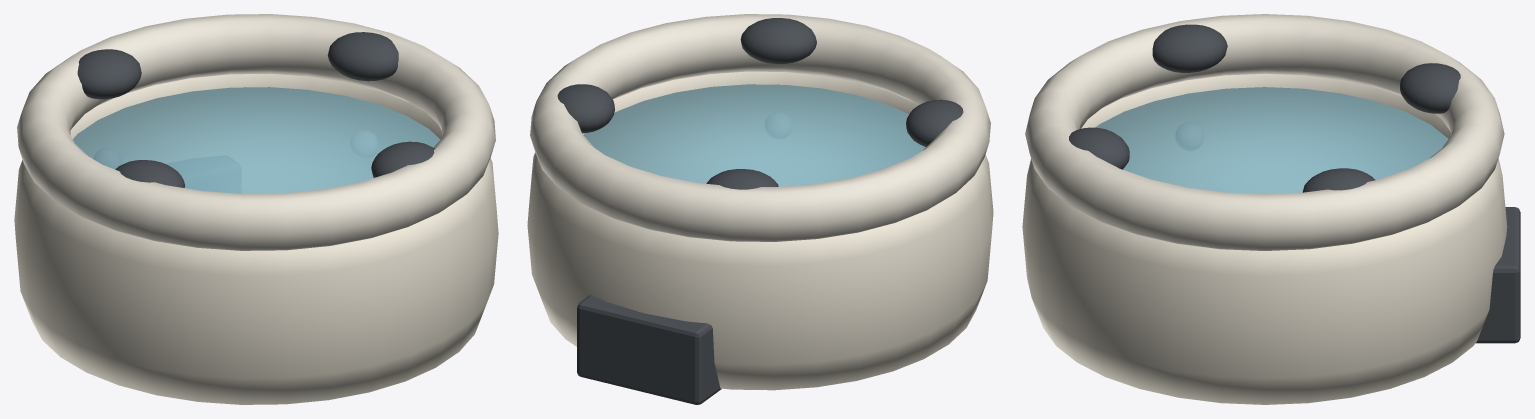
Rendered from hot_tub_round.glb.
3 views of the same model, side by side, from view 1: azimuth 30°, elevation 25°; view 2: azimuth 150°, elevation 25°; view 3: azimuth 270°, elevation 25° (orthographic). The views are drawn at different scales.
Visible parts, largest first — view 1: Tub wall, Tint, Water, Headrest.002, Headrest.001, Headrest.003, Headrest; view 2: Tub wall, Tint, Water, Step, Headrest.003, Headrest.002, Headrest, Headrest.001; view 3: Tub wall, Tint, Water, Step, Headrest, Headrest.001, Headrest.003, Headrest.002.
Boxes of the visible parts, x1,y1,x2,y2 form: Tub wall: (14,73,498,404); Tint: (17,14,495,250); Water: (73,87,440,193); Headrest.002: (327,32,398,81); Headrest.001: (77,49,141,99); Headrest.003: (371,141,434,177); Headrest: (115,160,184,187); Tub wall: (527,71,993,390); Tint: (530,14,990,241); Water: (583,84,925,186); Step: (577,295,721,404); Headrest.003: (740,18,816,64); Headrest.002: (557,84,614,133); Headrest: (906,99,963,146); Headrest.001: (706,169,778,189); Tub wall: (1022,73,1507,404); Tint: (1025,14,1504,250); Water: (1095,87,1448,193); Step: (1476,207,1520,343); Headrest: (1152,24,1227,72); Headrest.001: (1400,63,1460,113); Headrest.003: (1069,127,1129,169); Headrest.002: (1302,168,1375,192).
Bounding box in the file's own units: 1.82 × 0.88 × 1.87.
